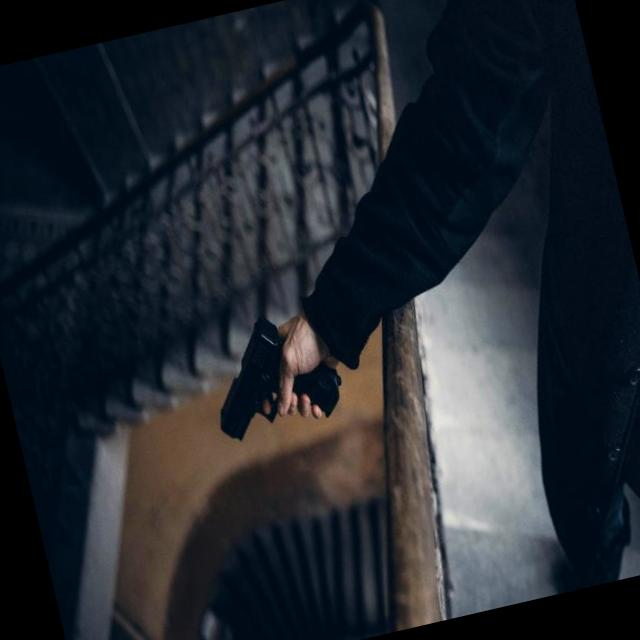Gun: (219, 318, 286, 443), (291, 362, 342, 418)
